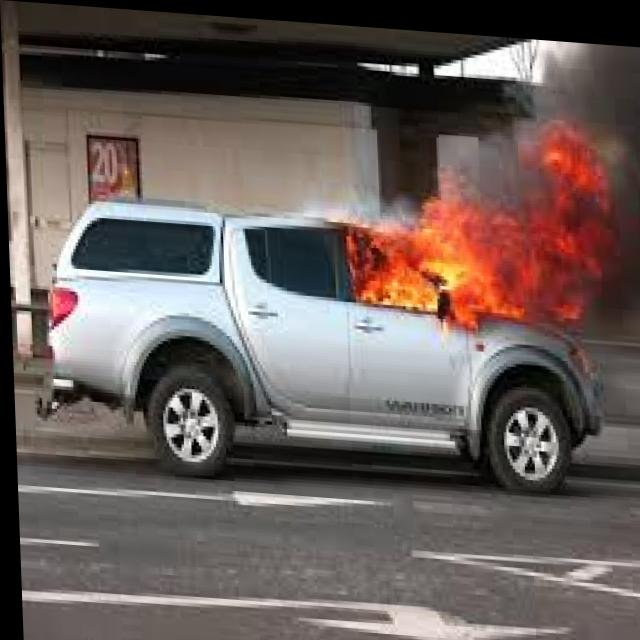fire: (336, 105, 626, 333)
